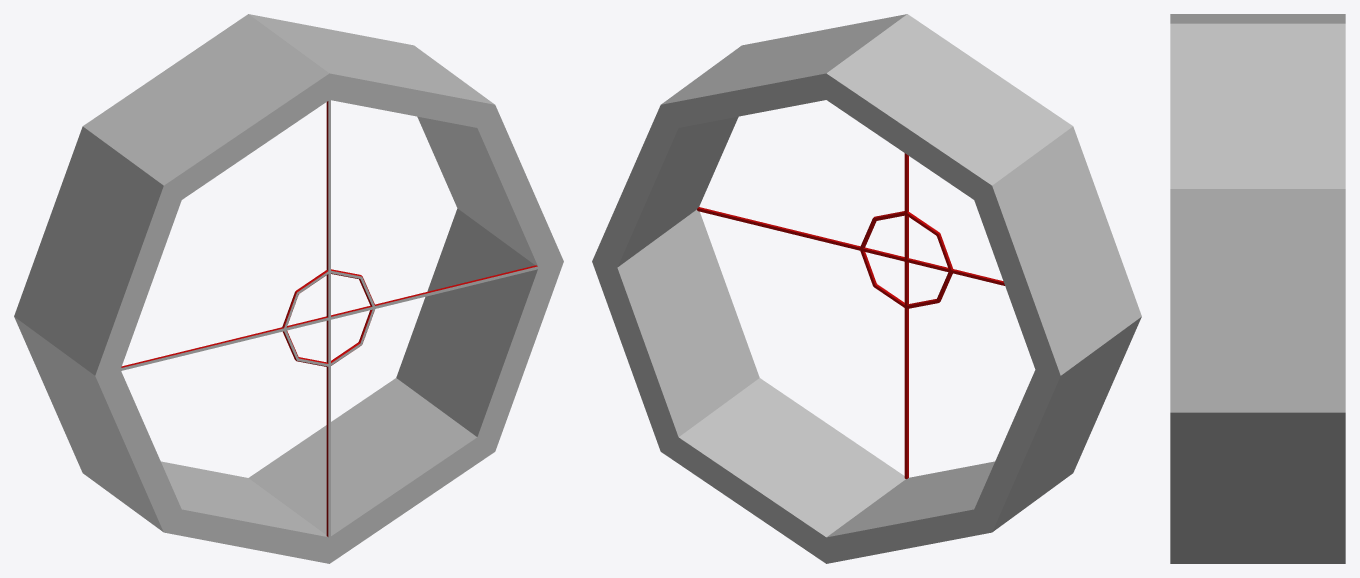
File: Antenna.glb
The picture shows the model from 3 angles, left to right: view 1: azimuth 30°, elevation 25°; view 2: azimuth 150°, elevation 25°; view 3: azimuth 270°, elevation 25°; orthographic projection. The views are drawn at different scales.
Parts seen in each view (by area): view 1: Solide1; view 2: Solide1; view 3: Solide1.
Part boxes in pixels (x1,y1,x2,y2): Solide1: [14, 14, 563, 563]; Solide1: [592, 14, 1141, 563]; Solide1: [1170, 14, 1345, 563].
Bounding box in the file's own units: 1 × 1 × 0.3.
